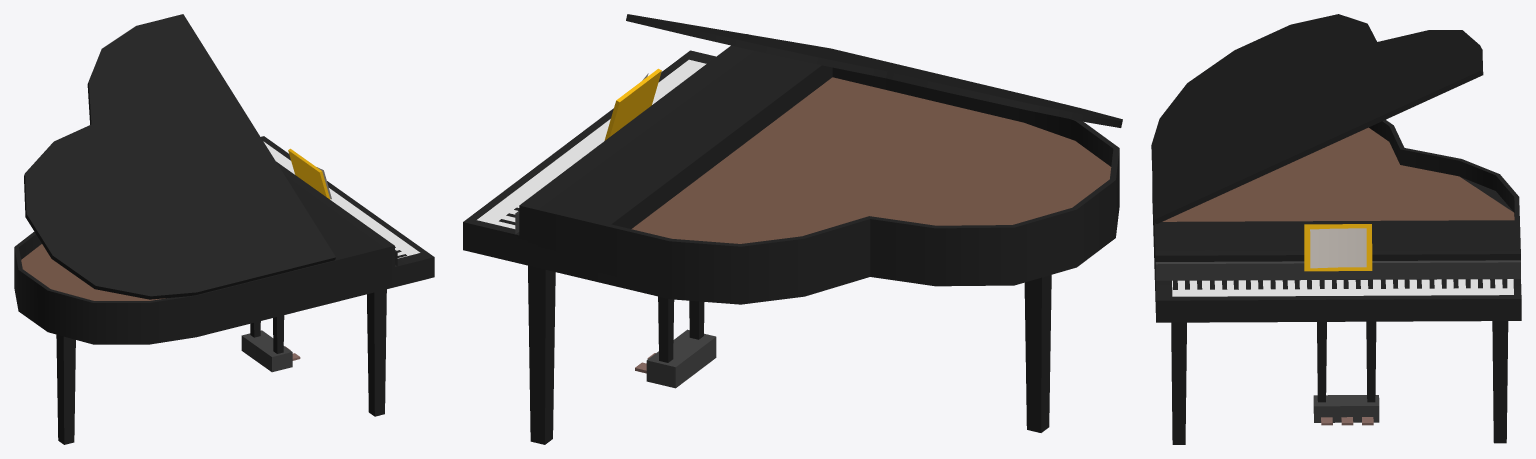
Rendered from Piano.fbx.
3 views of the same model, side by side, from view 1: azimuth 30°, elevation 25°; view 2: azimuth 150°, elevation 25°; view 3: azimuth 270°, elevation 25° (orthographic). The views are drawn at different scales.
Visible parts, largest first — view 1: Piano; view 2: Piano; view 3: Piano.
Part boxes in pixels (x1,y1,x2,y2): Piano: [14, 14, 434, 444]; Piano: [463, 14, 1122, 444]; Piano: [1151, 14, 1521, 444].
Size of the model in its own units: 74.22 by 63.87 by 62.66.
